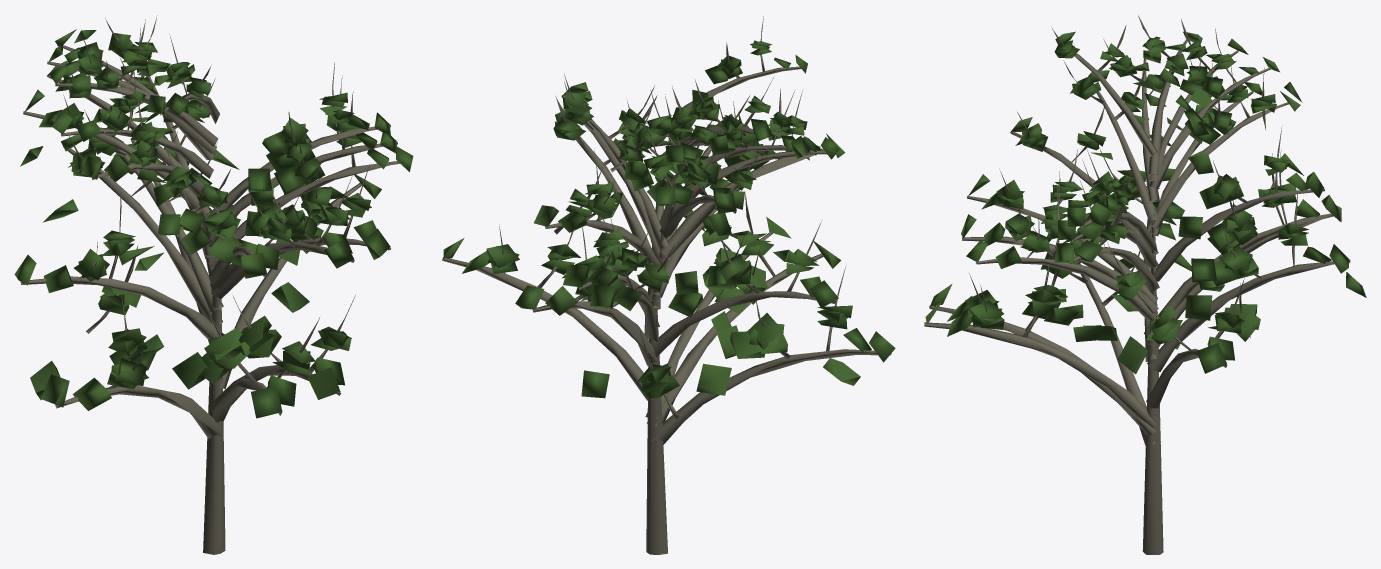
The model's file is Tree_PinOak_006.fbx.
3 views of the same model, side by side, from view 1: azimuth 30°, elevation 25°; view 2: azimuth 150°, elevation 25°; view 3: azimuth 270°, elevation 25° (orthographic). The views are drawn at different scales.
Visible parts, largest first — view 1: Tree_PinOak.006; view 2: Tree_PinOak.006; view 3: Tree_PinOak.006.
Boxes of the visible parts, x1,y1,x2,y2 form: Tree_PinOak.006: (14,15,413,554); Tree_PinOak.006: (442,16,895,554); Tree_PinOak.006: (924,15,1366,554).
Bounding box in the file's own units: 1723 × 2214 × 1773.
